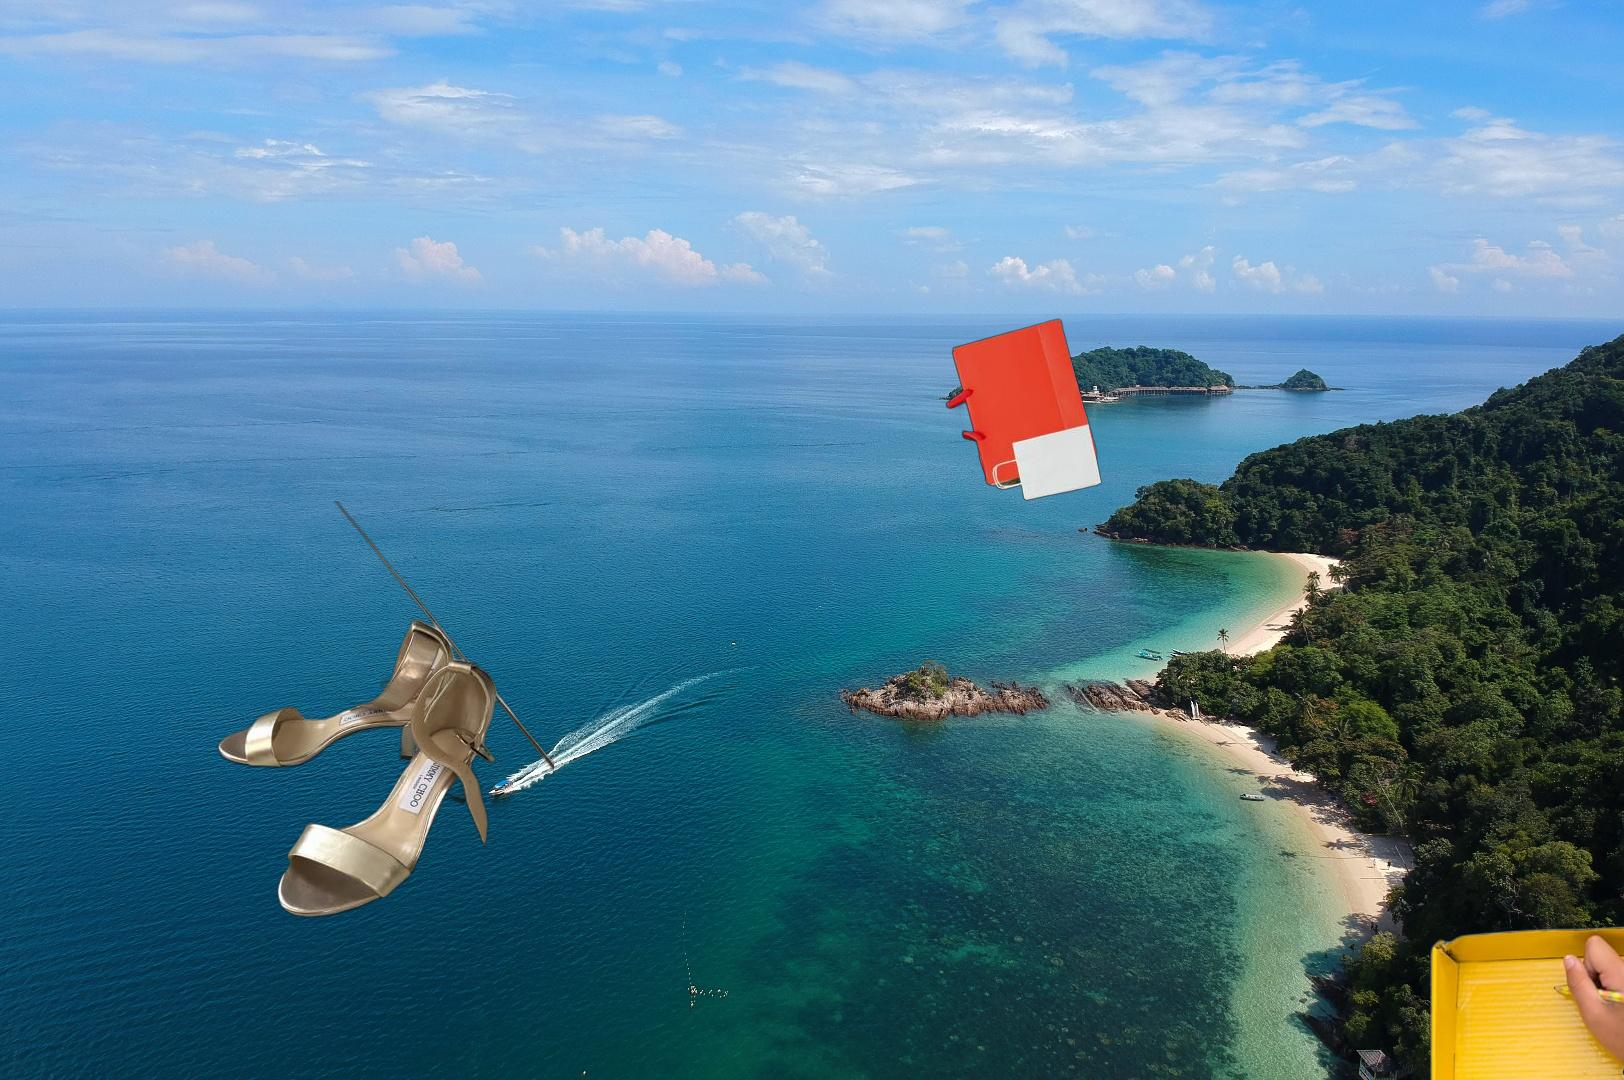biological: (1410, 933, 1624, 1080)
paper-bag: (945, 318, 1105, 503)
shoes: (214, 501, 554, 921)
trashbox-cardboard: (1426, 908, 1624, 1080)
